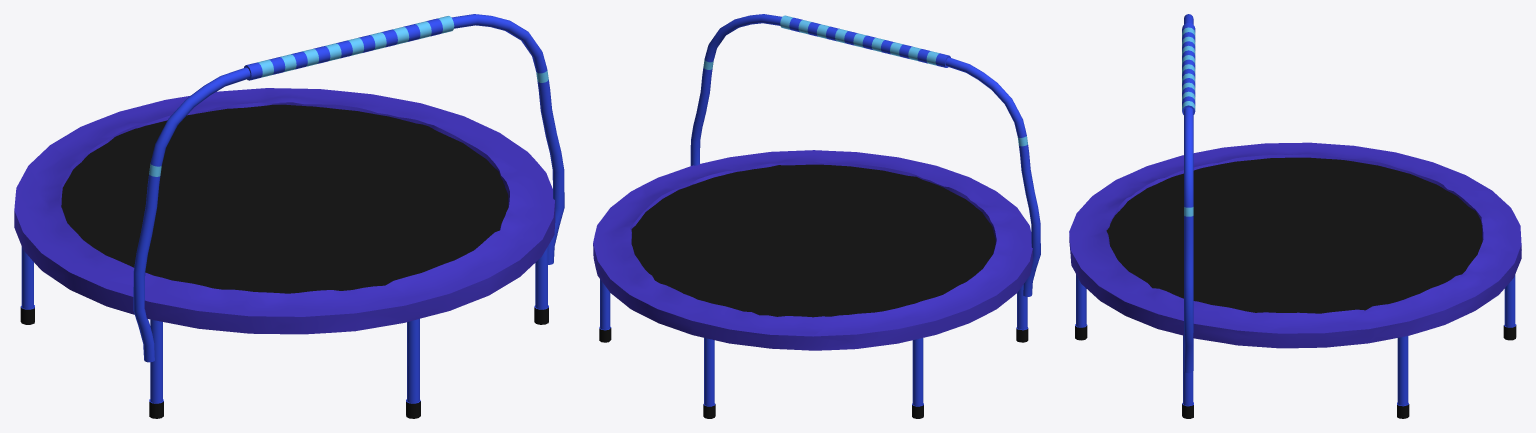
Rendered from trampoline.glb.
The picture shows the model from 3 angles, left to right: view 1: azimuth 30°, elevation 25°; view 2: azimuth 150°, elevation 25°; view 3: azimuth 270°, elevation 25°; orthographic projection. The views are drawn at different scales.
Parts seen in each view (by area): view 1: Cylinder.014; view 2: Cylinder.014; view 3: Cylinder.014.
Boxes of the visible parts, box(x1,y1,x2,y2) form: Cylinder.014: box(14, 14, 564, 418); Cylinder.014: box(593, 14, 1040, 418); Cylinder.014: box(1069, 14, 1521, 418).
Size of the model in its own units: 2.09 by 1.4 by 2.1.
1 material, 1 textured.
